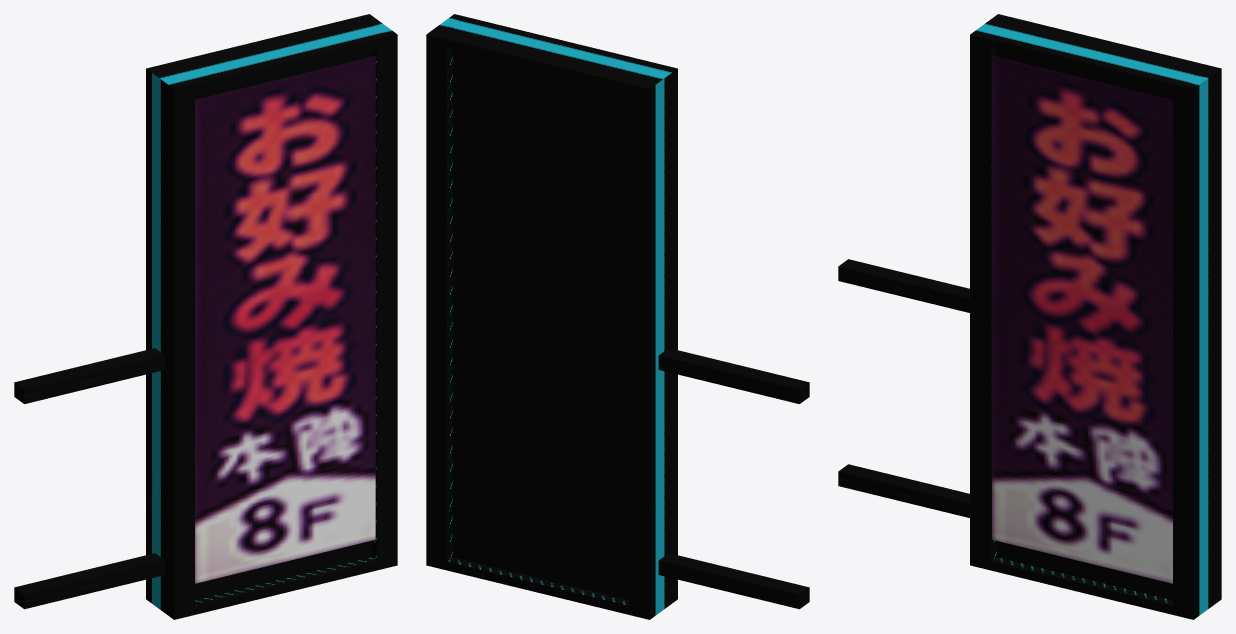
Rendered from Japanese_Sign_07_Art.fbx.
3 views of the same model, side by side, from view 1: azimuth 30°, elevation 25°; view 2: azimuth 150°, elevation 25°; view 3: azimuth 330°, elevation 25° (orthographic).
Visible parts, largest first — view 1: Japanese_Sign_07; view 2: Japanese_Sign_07; view 3: Japanese_Sign_07.
Part boxes in pixels (bbox=[...]): Japanese_Sign_07: bbox=[14, 14, 397, 619]; Japanese_Sign_07: bbox=[426, 14, 809, 619]; Japanese_Sign_07: bbox=[838, 14, 1221, 619].
Bounding box in the file's own units: 0.947 × 1.32 × 0.1264.
